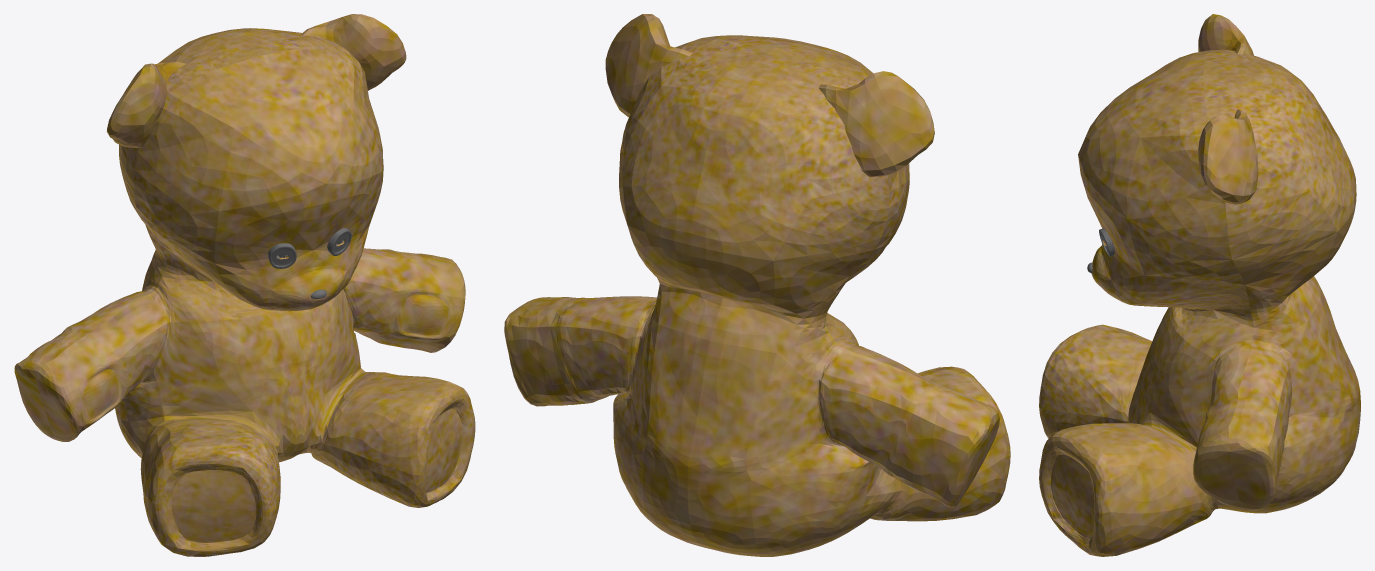
File: sweethome3d-blendswap-cc-0-teddy-bear-50.glb
3 renders of one model, left to right at view 1: azimuth 30°, elevation 25°; view 2: azimuth 150°, elevation 25°; view 3: azimuth 270°, elevation 25°, orthographic. The views are drawn at different scales.
Parts seen in each view (by area): view 1: Cube; view 2: Cube; view 3: Cube.
Part boxes in pixels (x1=…): Cube: x1=14, y1=14, x2=475, y2=556; Cube: x1=504, y1=14, x2=1010, y2=556; Cube: x1=1039, y1=14, x2=1360, y2=556.
Bounding box in the file's own units: 33.15 × 32.23 × 21.78.
Materials: 2 (1 with a texture image).
